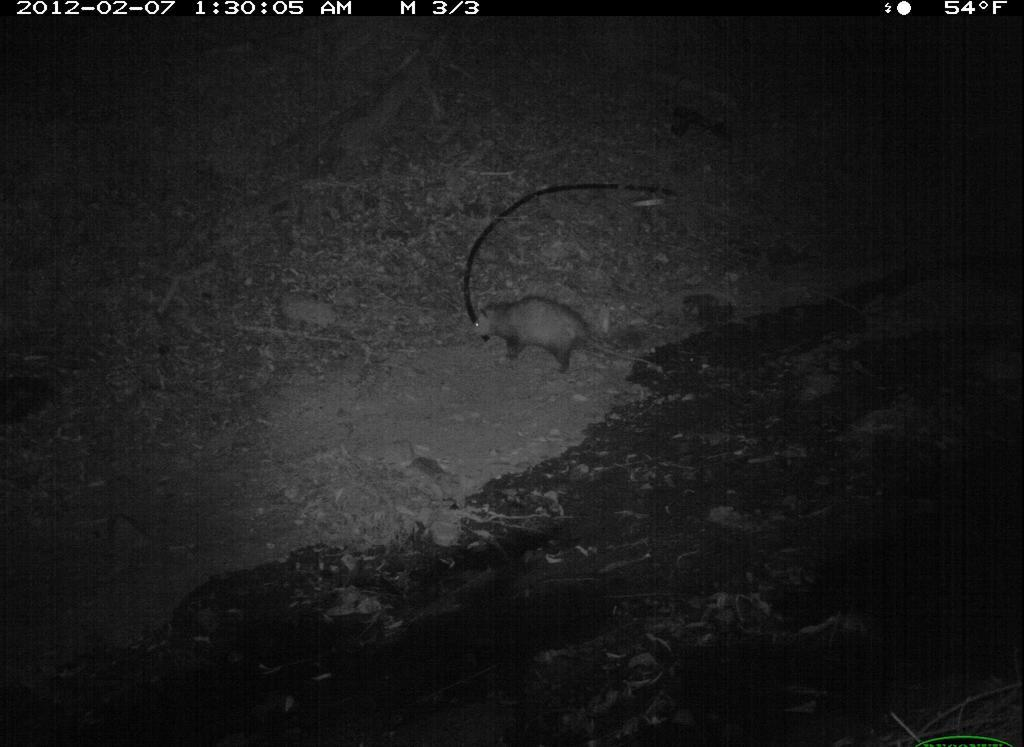opossum: (461, 294, 685, 410)
